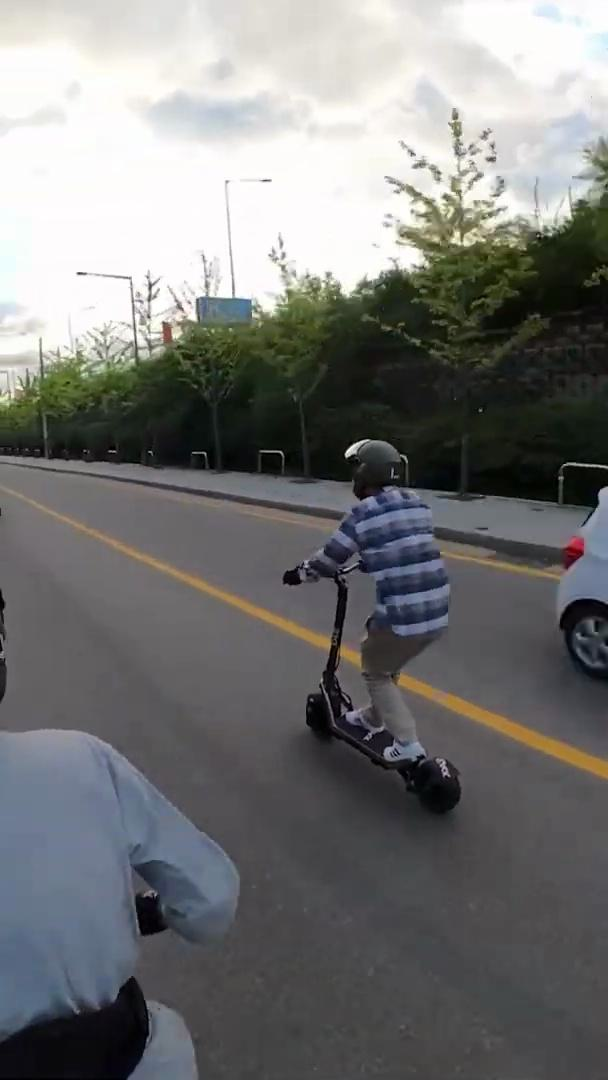helmet: (276, 433, 465, 822)
